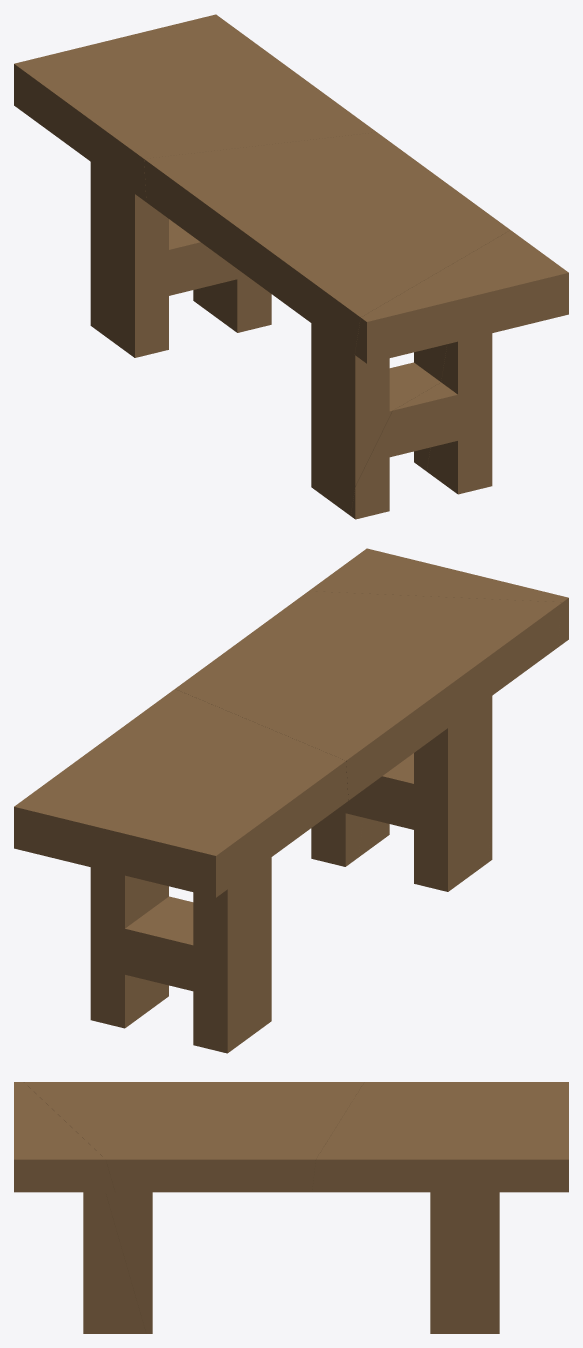
The model's file is banco.fbx.
3 renders of one model, top to bottom at view 1: azimuth 30°, elevation 25°; view 2: azimuth 150°, elevation 25°; view 3: azimuth 270°, elevation 25°, orthographic. The views are drawn at different scales.
Parts seen in each view (by area): view 1: bancos.001_cell, bancos.001_cell.001, bancos.001_cell.002; view 2: bancos.001_cell.001, bancos.001_cell, bancos.001_cell.002; view 3: bancos.001_cell.001, bancos.001_cell, bancos.001_cell.002.
Part boxes in pixels (bbox=[...]): bancos.001_cell: bbox=[144, 132, 509, 515]; bancos.001_cell.001: bbox=[14, 14, 376, 357]; bancos.001_cell.002: bbox=[351, 230, 568, 519]; bancos.001_cell.001: bbox=[14, 689, 348, 1053]; bancos.001_cell: bbox=[175, 591, 562, 891]; bancos.001_cell.002: bbox=[309, 548, 568, 862]; bancos.001_cell.001: bbox=[312, 1082, 568, 1333]; bancos.001_cell: bbox=[24, 1082, 364, 1333]; bancos.001_cell.002: bbox=[14, 1082, 146, 1333].
Bounding box in the file's own units: 296 × 332 × 894.
